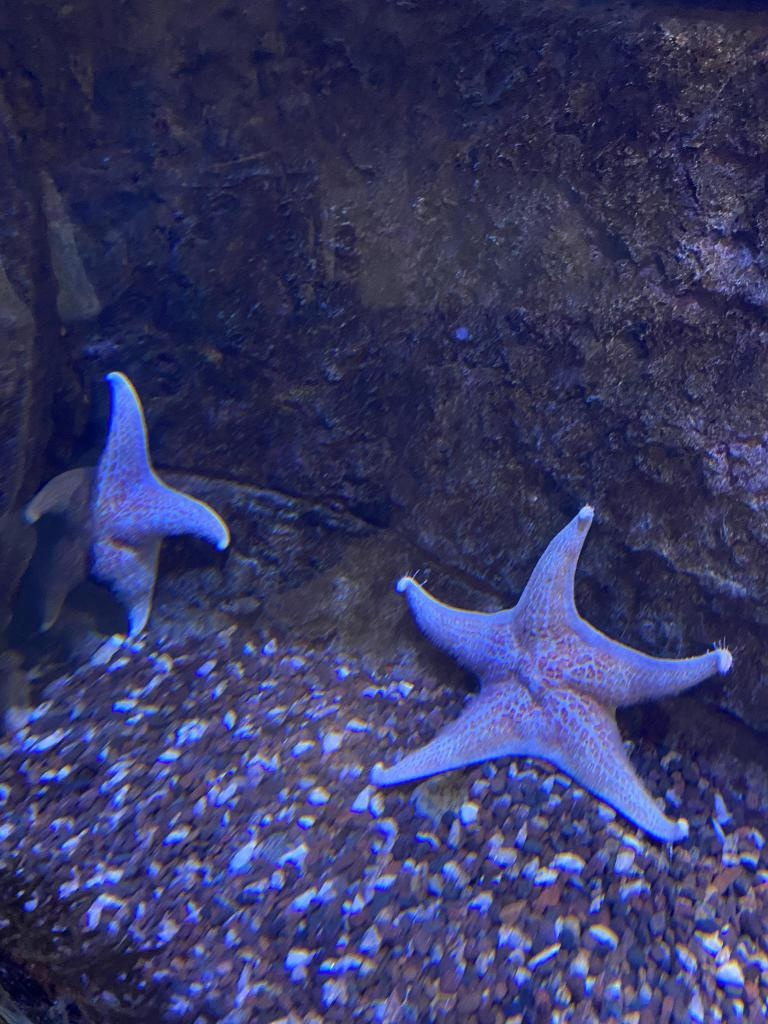starfish: (374, 504, 734, 844), (26, 371, 228, 641)
